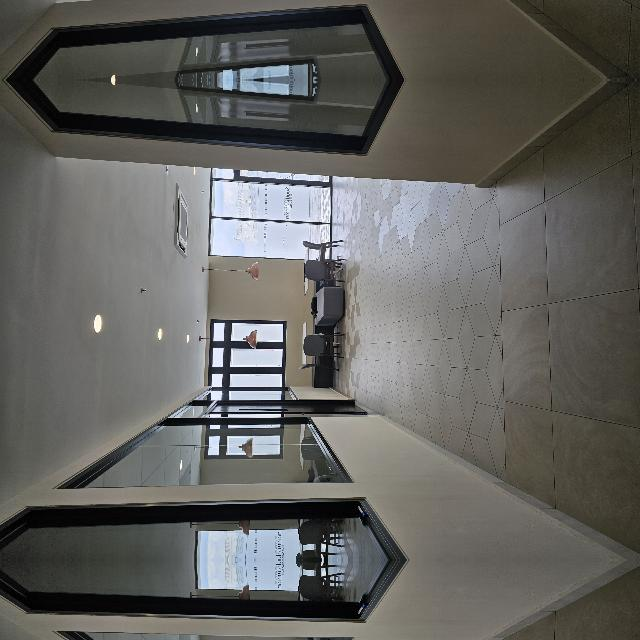obstacle: (185, 379, 328, 421)
